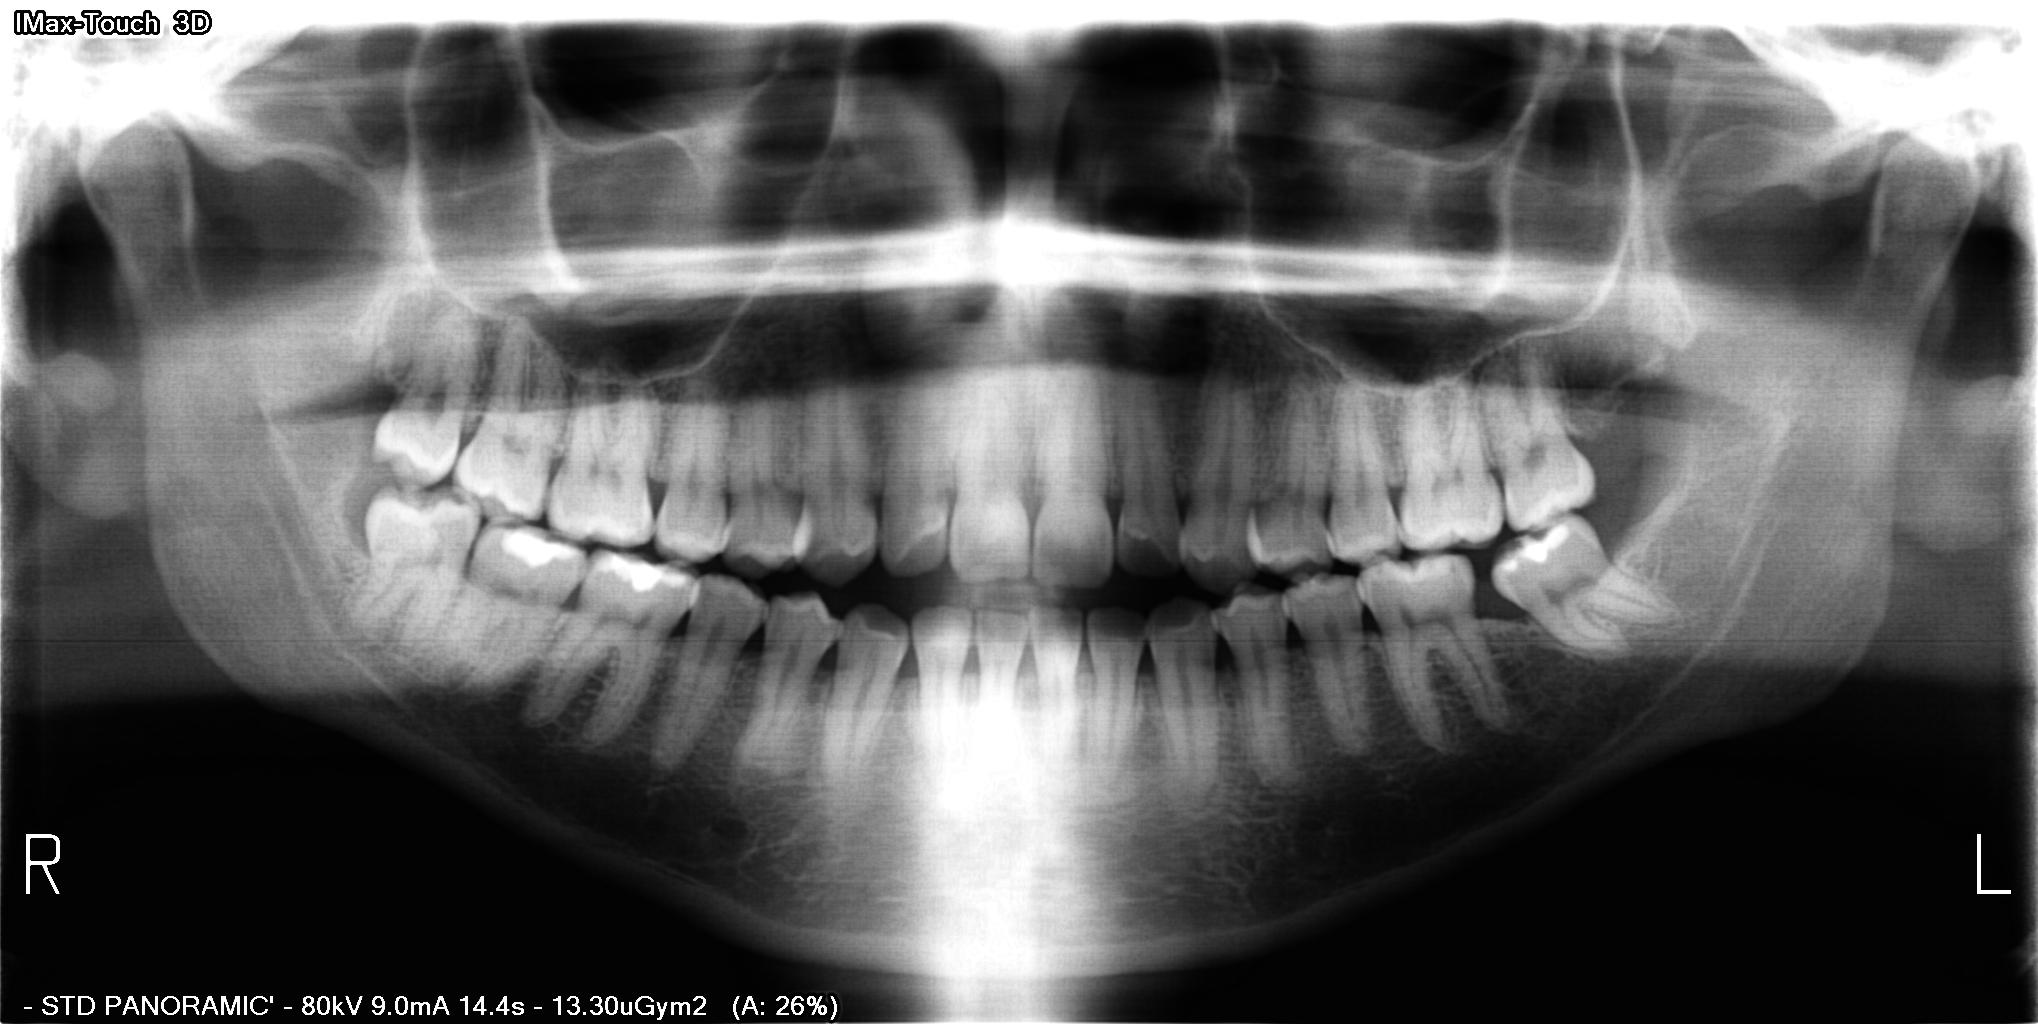Çürük: (590, 542, 692, 605), (1491, 516, 1589, 580), (494, 519, 580, 576)
Çürük Bölgesi: (1484, 532, 1555, 569)
